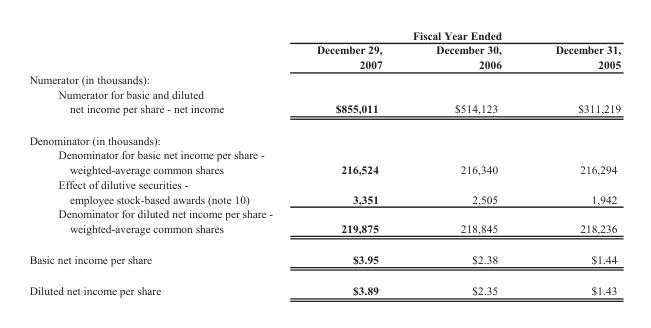table: (28, 28, 620, 296)
table column: (28, 28, 282, 296), (282, 28, 408, 296), (408, 28, 527, 296), (527, 28, 620, 296)
table column header: (28, 28, 620, 71)
table projected row header: (28, 124, 620, 147), (28, 71, 620, 86), (28, 86, 620, 101), (28, 176, 620, 191), (28, 147, 620, 161), (28, 206, 620, 220)
table row: (28, 243, 620, 274), (28, 42, 620, 71), (28, 101, 620, 124), (28, 124, 620, 147), (28, 220, 620, 243), (28, 274, 620, 296), (28, 71, 620, 86), (28, 86, 620, 101), (28, 161, 620, 176), (28, 176, 620, 191), (28, 191, 620, 206), (28, 28, 620, 42), (28, 147, 620, 161), (28, 206, 620, 220)
table spanning cell: (282, 28, 620, 42)
